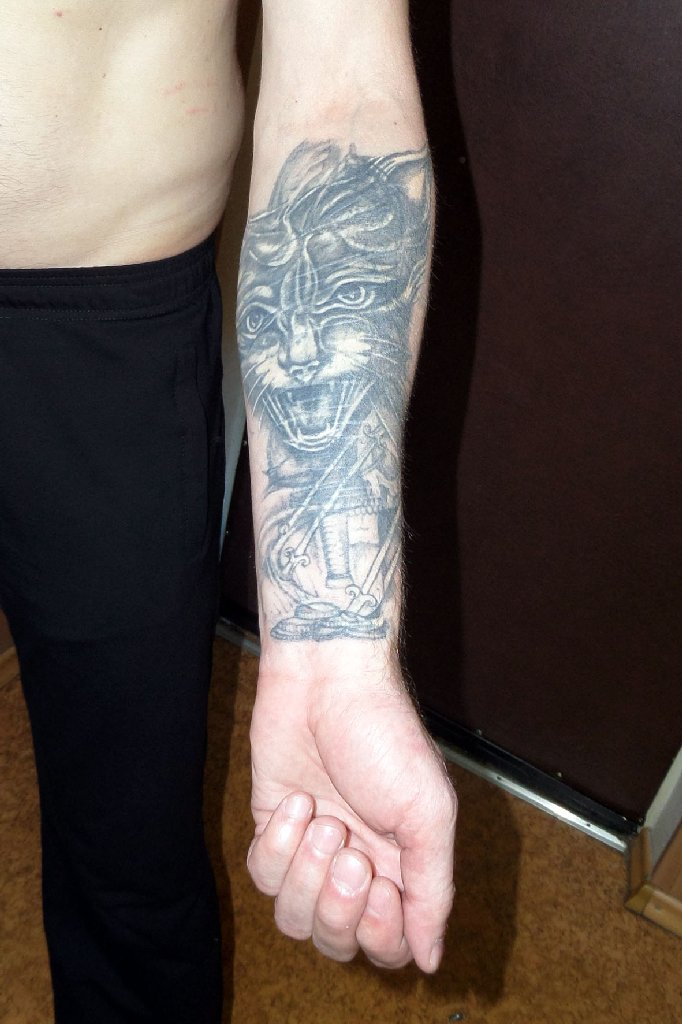tatu8_kot: (232, 129, 432, 659)
